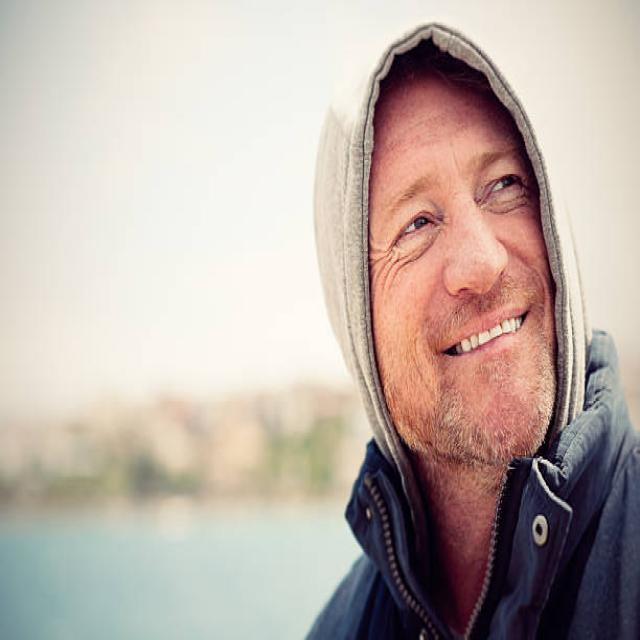Wrinkles: (390, 234, 440, 286), (390, 112, 454, 143), (381, 250, 416, 294), (420, 123, 469, 147), (373, 257, 392, 299), (451, 141, 459, 170), (504, 205, 529, 213), (372, 257, 383, 265), (487, 209, 502, 213)
